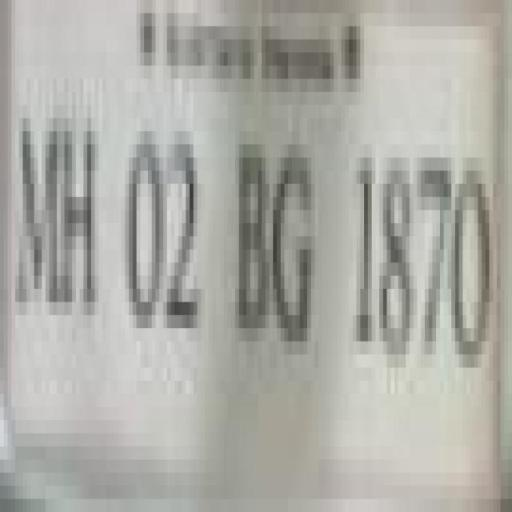number plate: (0, 26, 493, 459)
